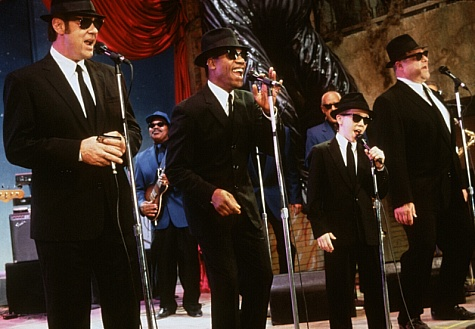20: (338, 104, 371, 143)
25: (399, 42, 431, 81)
27: (144, 114, 169, 141)
33: (56, 1, 104, 65), (208, 37, 250, 91)
65: (319, 91, 343, 124)
Coat: (2, 52, 144, 244), (158, 78, 287, 242), (368, 74, 469, 208), (299, 131, 392, 252), (134, 145, 190, 232), (250, 155, 282, 228), (306, 120, 338, 171)
Glasses: (46, 15, 106, 32), (204, 49, 254, 64), (331, 109, 373, 125), (395, 49, 432, 65), (319, 101, 344, 110), (146, 121, 169, 129)
Hat: (190, 25, 253, 66), (383, 31, 430, 70), (38, 1, 107, 22), (329, 94, 375, 122)
Male: (56, 1, 104, 65), (208, 37, 250, 91), (338, 104, 371, 143), (399, 42, 431, 81), (319, 91, 343, 124), (144, 114, 169, 141)
P-Cap: (142, 109, 174, 125)
Pants: (27, 228, 148, 329), (386, 201, 474, 308), (196, 231, 276, 329), (318, 243, 393, 329), (149, 226, 202, 312)
Shirt: (47, 44, 99, 122), (392, 74, 455, 132), (333, 130, 363, 175), (205, 78, 236, 119), (152, 140, 170, 166)
Shoes: (428, 307, 475, 323), (396, 310, 434, 329), (151, 303, 180, 321), (180, 300, 204, 318)
Tie: (74, 64, 102, 136), (419, 83, 450, 137), (346, 139, 358, 190), (227, 93, 236, 127)
